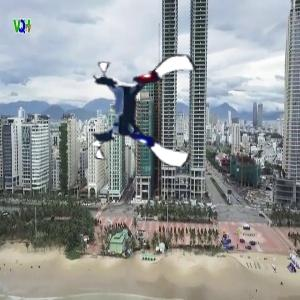drone: (87, 50, 205, 168)
